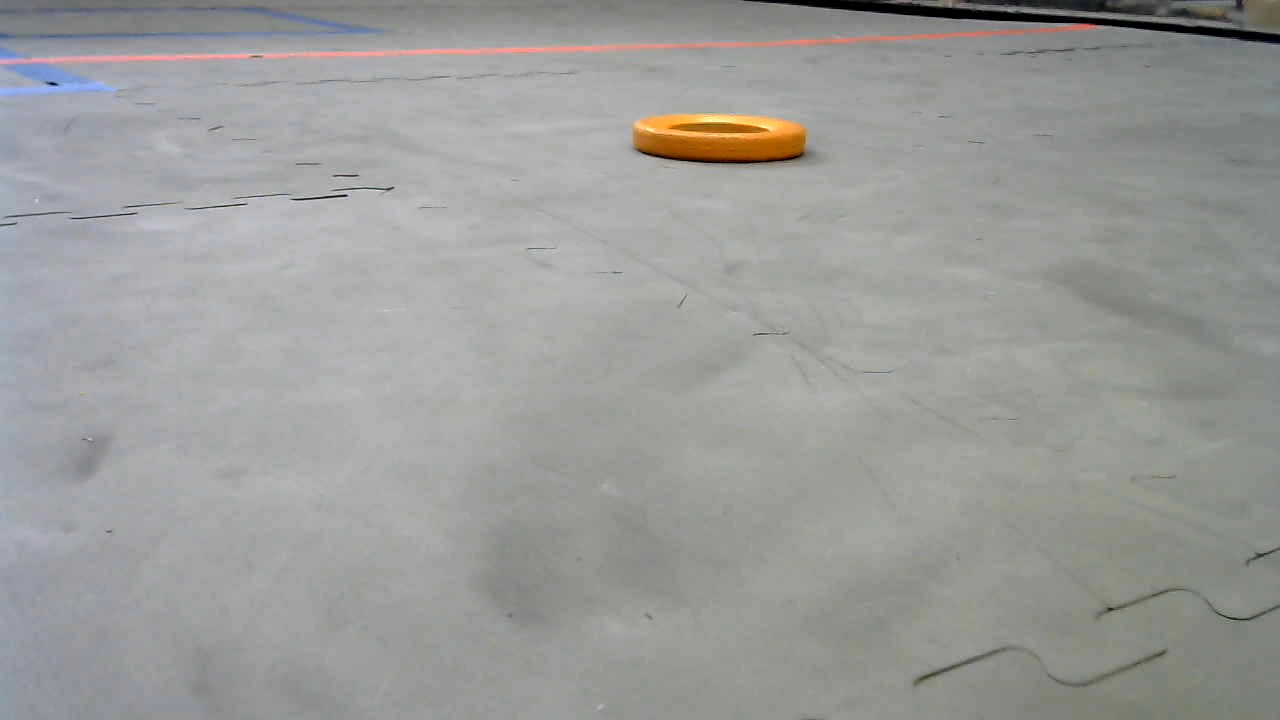OneStack: (634, 110, 805, 166)
